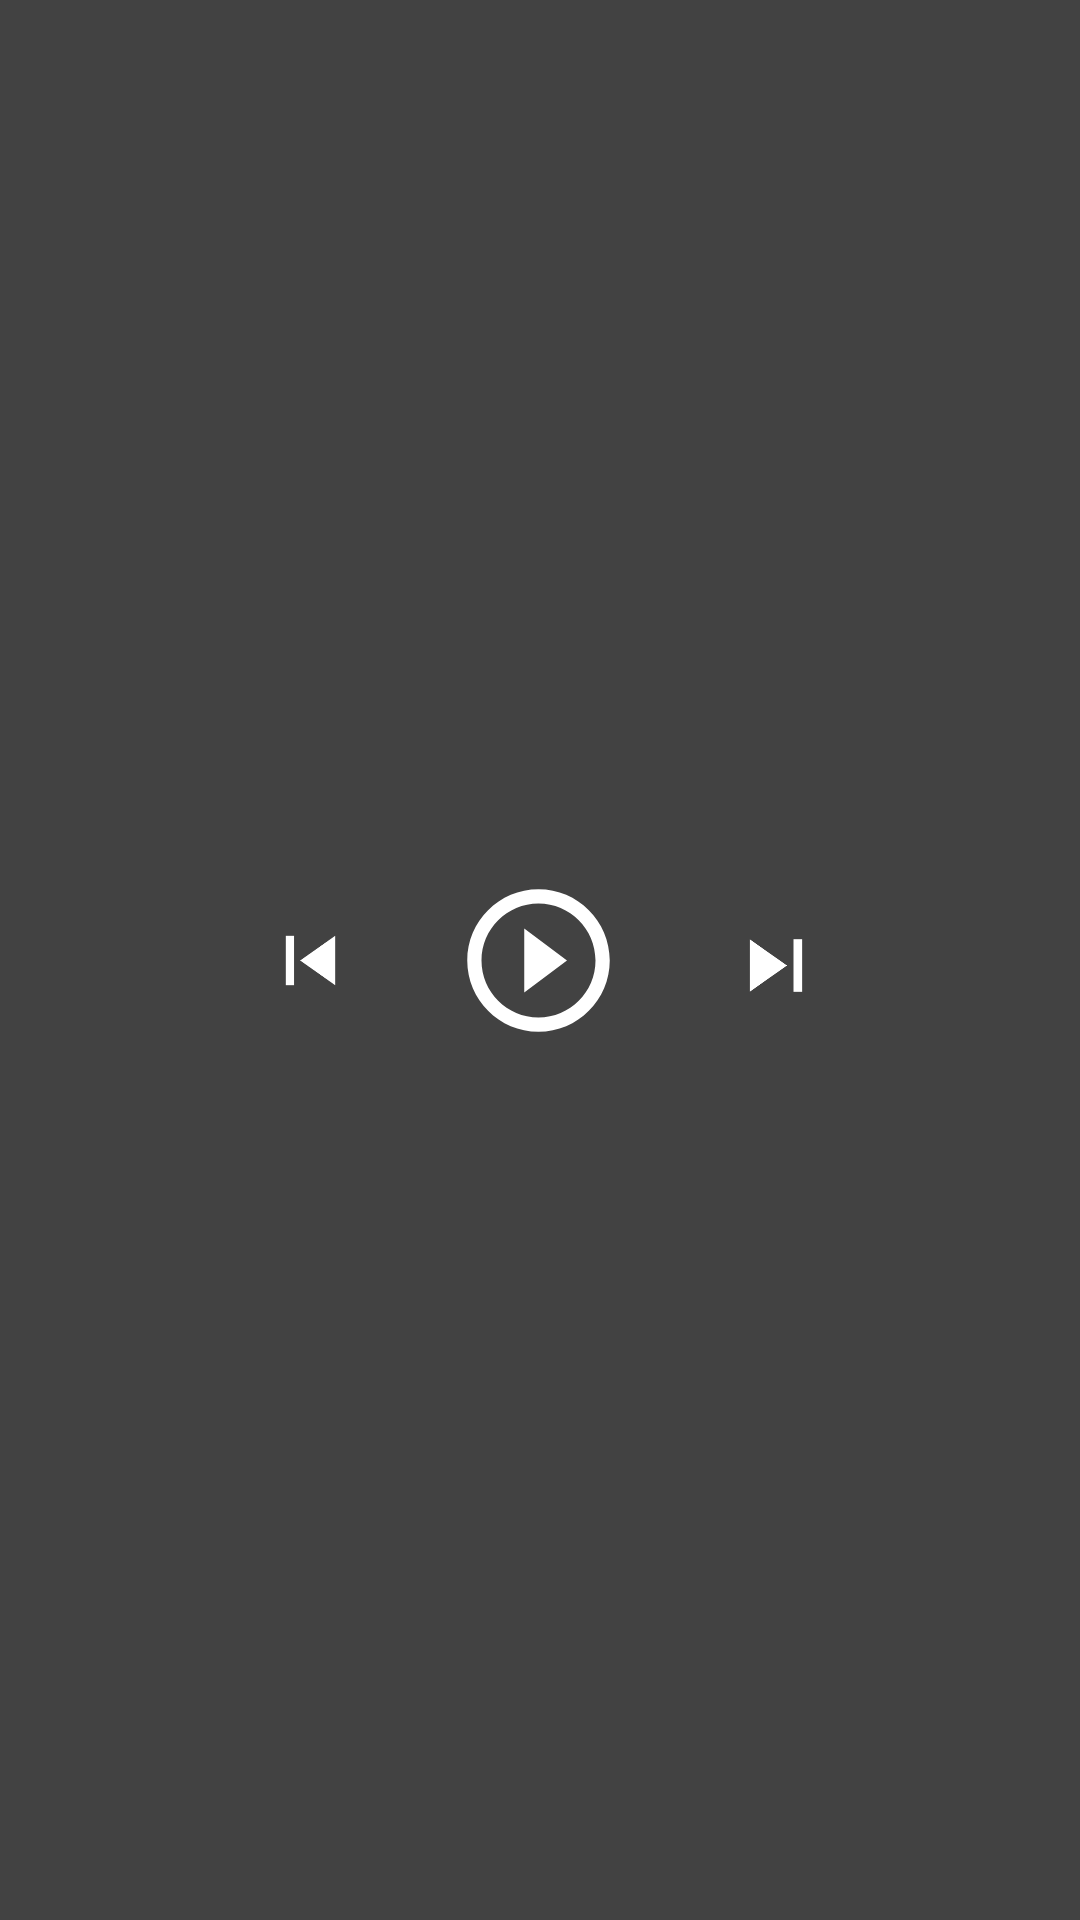

Screen size 1080px×1920px. Icon name, then its center in pixels as [x,y]:
play circle: [538,960]
skip next: [776,965]
skip previous: [310,960]
